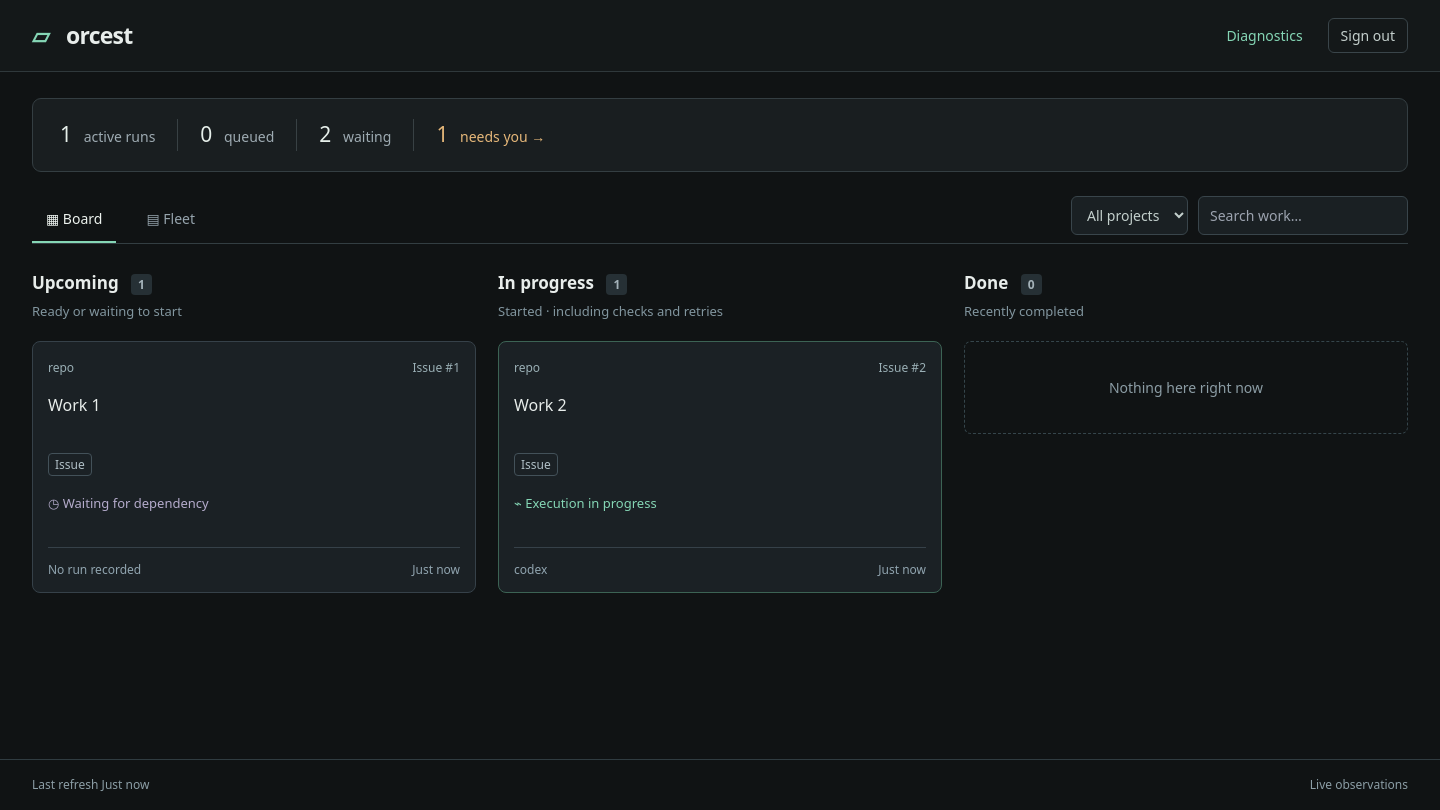
hides old cards during filter changes and ignores late superseded responses
Expected: the button with aria-label "Open org/repo #2: Work 2" is shown, x1=498 y1=340 x2=942 y2=592
Type "first" into the search field labelled "Search work" at (1303, 216), box x1=1198 y1=196 x2=1408 y2=235
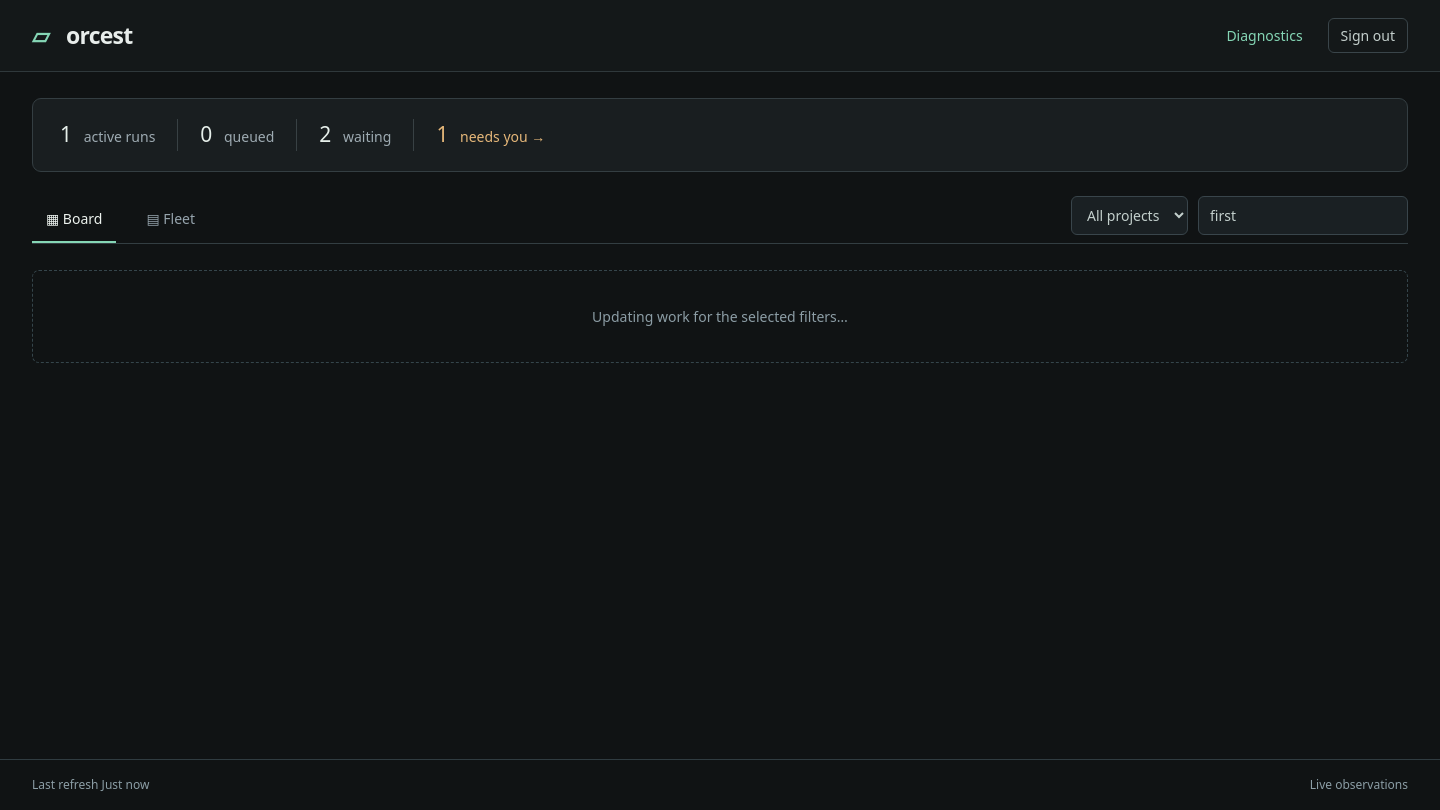
Result: the message shows "Updating work" at x1=592 y1=306 x2=848 y2=326
Replace the text in the search field named "Search work" with "second" at (1303, 216), box x1=1198 y1=196 x2=1408 y2=235
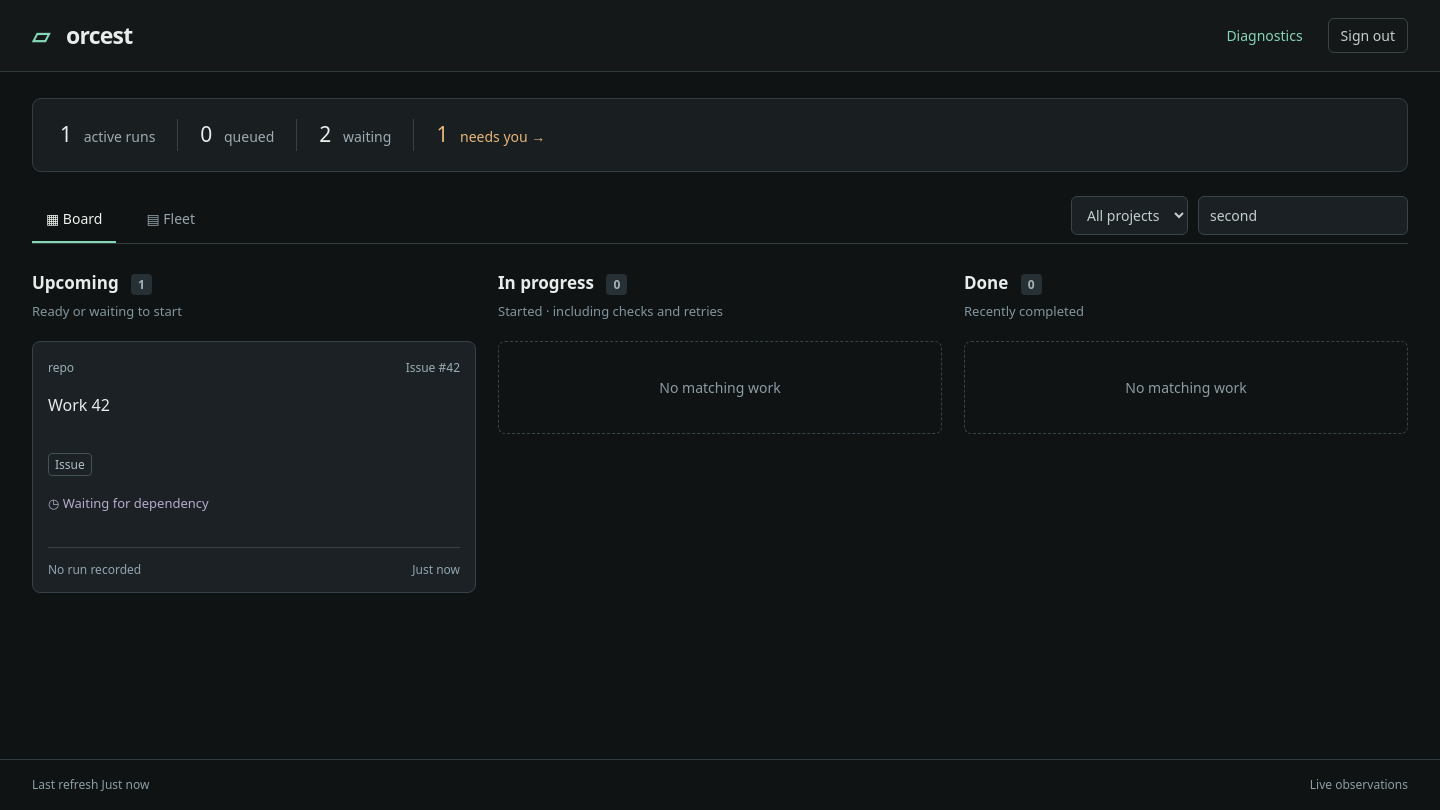
Result: the button with aria-label "Open org/repo #42: Work 42" is shown at x1=32 y1=340 x2=476 y2=592
